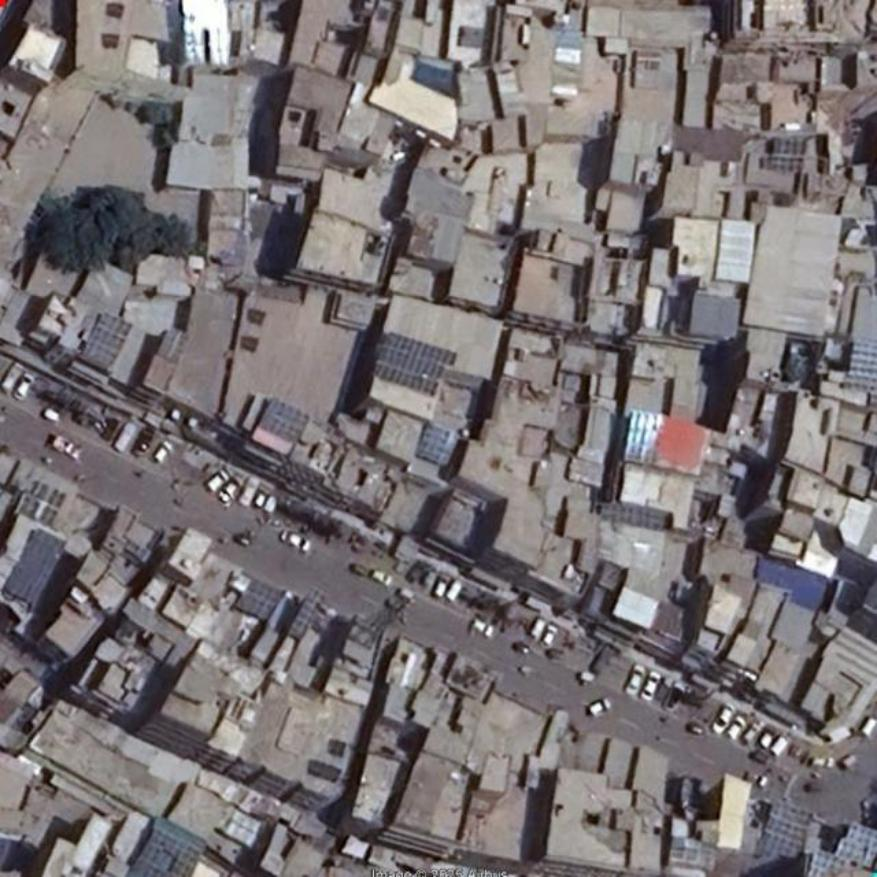Solarpanel: (373, 333, 455, 396), (126, 831, 201, 876), (761, 801, 815, 858), (81, 310, 131, 370), (286, 586, 326, 639), (832, 825, 876, 871), (234, 579, 282, 621), (844, 337, 876, 392), (417, 425, 458, 465), (807, 849, 840, 876)
